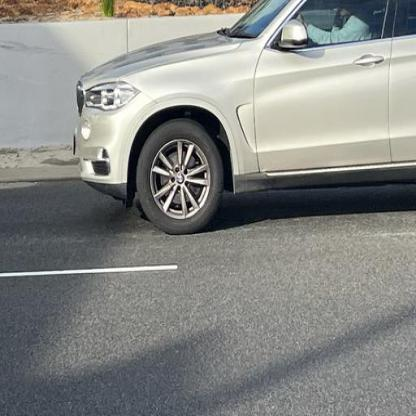Tire: (136, 118, 224, 235)
